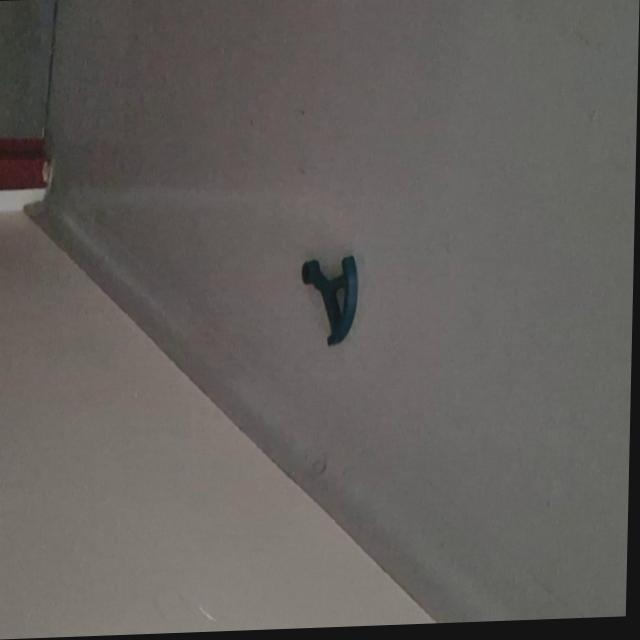haptic: (299, 252, 360, 348)
